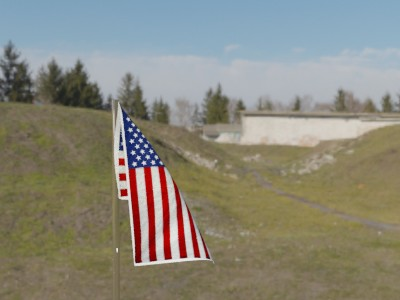American Flag: (115, 100, 221, 269)
